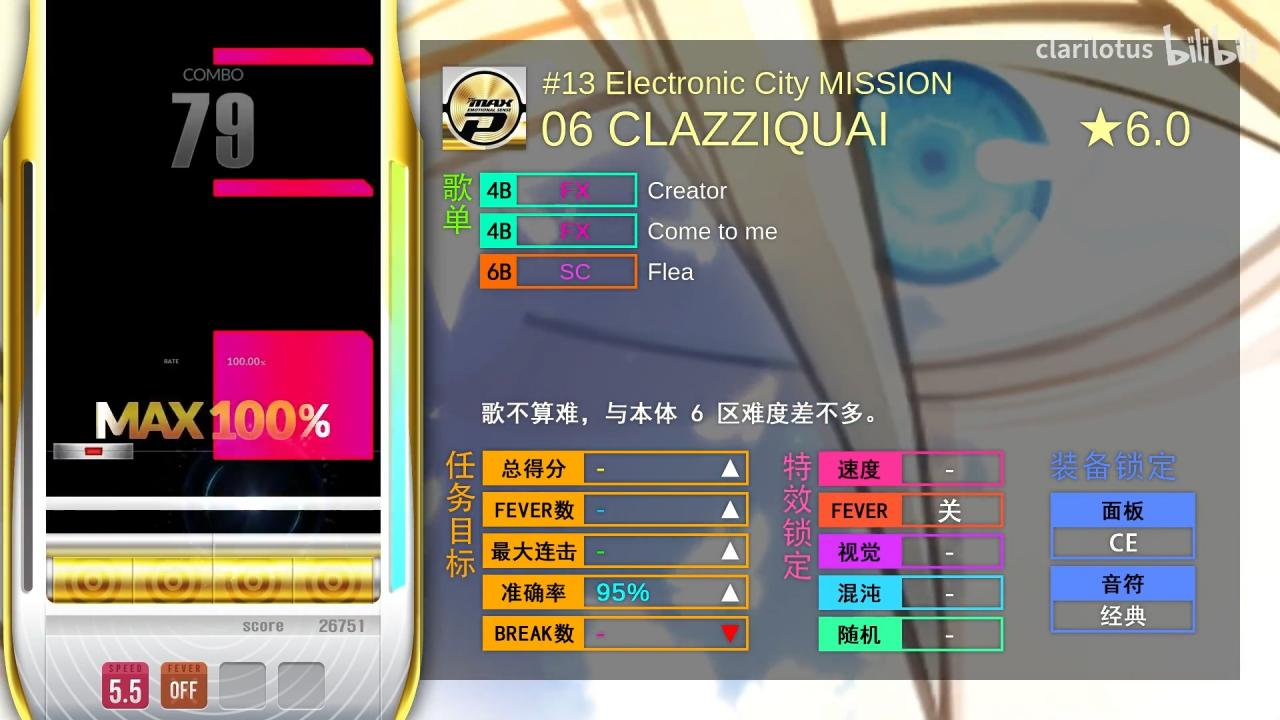note: (53, 443, 133, 459)
xend: (213, 330, 374, 347)
xnote: (213, 178, 373, 198), (212, 47, 374, 66)
xstart: (212, 443, 374, 460)
